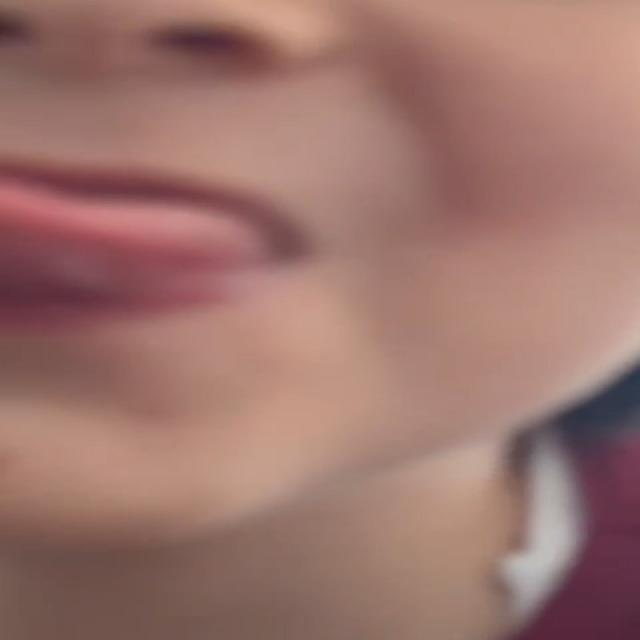authorized: (1, 0, 636, 638)
